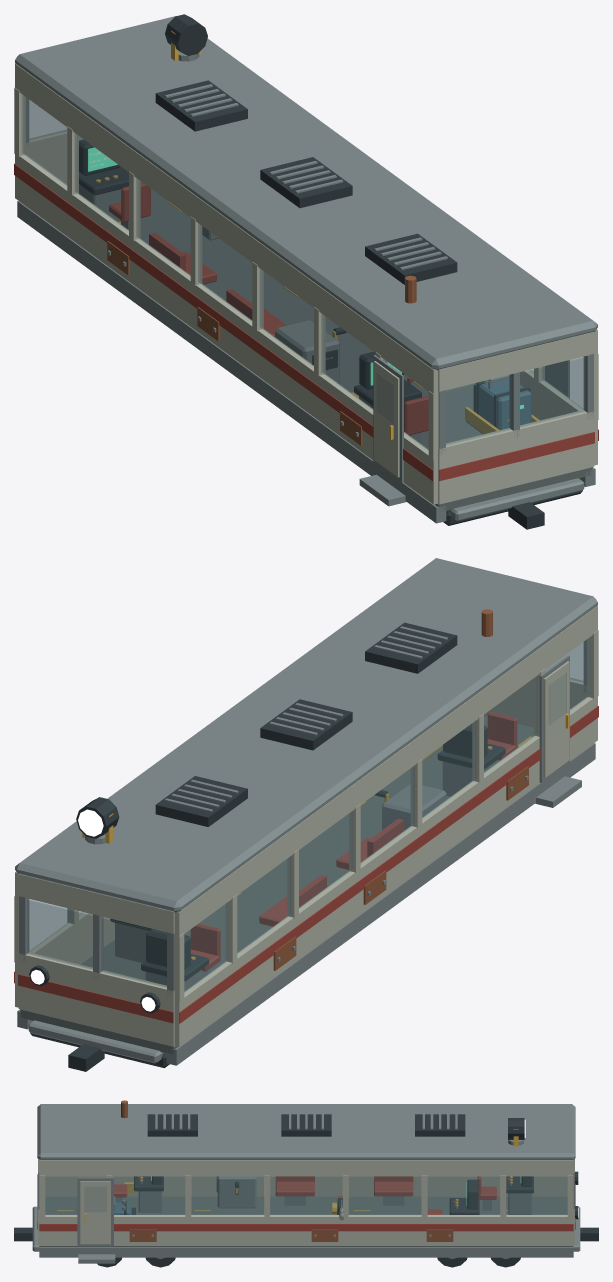
File: DeadRail_Train.fbx
3 views of the same model, one above another, from view 1: azimuth 30°, elevation 25°; view 2: azimuth 150°, elevation 25°; view 3: azimuth 270°, elevation 25° (orthographic). The views are drawn at different scales.
Visible parts, largest first — view 1: Roof_Removable.002, Wall_Lower.004, Wall_Upper.004, Interior_Floor.002, End_Lower.004, Side_Sill.004, Wall_Red_Stripe.004, End_Upper.004, End_Window.009, End_Window.008, Side_Window.032, Side_Window.030 (+32 smaller); view 2: Roof_Removable.002, Wall_Lower.004, Wall_Upper.004, Interior_Floor.002, Side_Sill.004, End_Lower.005, Wall_Red_Stripe.004, End_Upper.005, End_Window.011, End_Window.010, Side_Window.033, Side_Window.030 (+34 smaller); view 3: Roof_Removable.002, Wall_Lower.005, Wall_Upper.005, Interior_Floor.002, Side_Sill.005, Wall_Lower.004, Wall_Red_Stripe.005, Side_Window.038, Side_Window.037, Side_Window.039, Side_Window.040, Side_Window.036 (+32 smaller).
Part boxes in pixels (box(x1,y1,x2,y2)): Roof_Removable.002: box(15, 16, 597, 370); Wall_Lower.004: box(15, 154, 438, 504); Wall_Upper.004: box(15, 63, 438, 394); Interior_Floor.002: box(120, 181, 592, 511); End_Lower.004: box(438, 410, 594, 504); Side_Sill.004: box(17, 201, 446, 523); Wall_Red_Stripe.004: box(14, 163, 433, 481); End_Upper.004: box(438, 332, 594, 391); End_Window.009: box(520, 357, 585, 427); End_Window.008: box(446, 375, 511, 445); Side_Window.032: box(136, 178, 190, 275); Side_Window.030: box(260, 269, 313, 366); Roof_Removable.002: box(15, 558, 597, 912); Wall_Lower.004: box(174, 696, 597, 1046); Wall_Upper.004: box(174, 605, 597, 936); Interior_Floor.002: box(20, 715, 533, 1054); Side_Sill.004: box(166, 743, 595, 1065); End_Lower.005: box(18, 952, 174, 1046); Wall_Red_Stripe.004: box(179, 706, 598, 1023); End_Upper.005: box(18, 874, 174, 933); End_Window.011: box(27, 899, 92, 969); End_Window.010: box(101, 917, 166, 987); Side_Window.033: box(237, 856, 291, 953); Side_Window.030: box(422, 720, 476, 818); Roof_Removable.002: box(37, 1104, 575, 1159); Wall_Lower.005: box(39, 1215, 573, 1245); Wall_Upper.005: box(39, 1159, 573, 1176); Interior_Floor.002: box(39, 1196, 573, 1246); Side_Sill.005: box(39, 1246, 573, 1257); Wall_Lower.004: box(45, 1176, 567, 1196); Wall_Red_Stripe.005: box(39, 1224, 573, 1231); Side_Window.038: box(270, 1176, 342, 1214); Side_Window.037: box(192, 1176, 263, 1214); Side_Window.039: box(349, 1176, 420, 1214); Side_Window.040: box(428, 1176, 499, 1214); Side_Window.036: box(113, 1176, 184, 1214).
Bounding box in the file's own units: 4.05 × 4.44 × 15.76.
